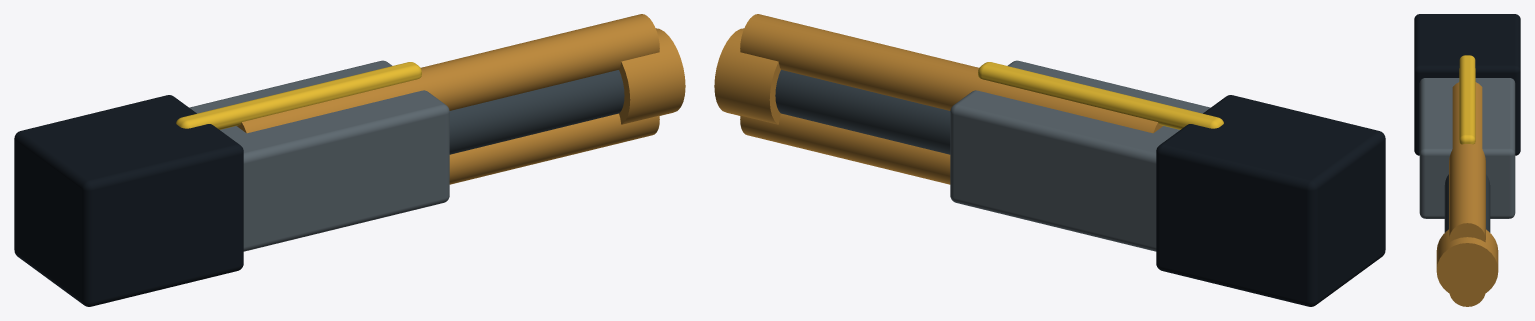
3 views of the same model, side by side, from view 1: azimuth 30°, elevation 25°; view 2: azimuth 150°, elevation 25°; view 3: azimuth 270°, elevation 25° (orthographic). The views are drawn at different scales.
Size of the model in its own units: 6.89 by 1.41 by 1.45.
